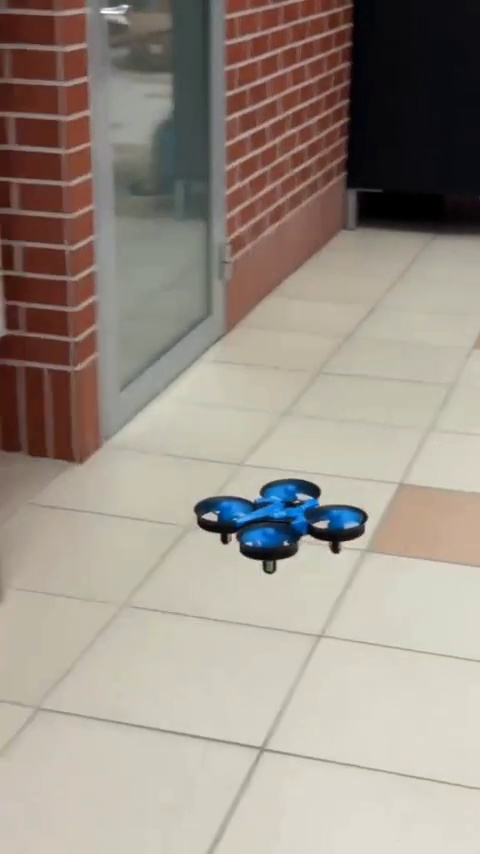drone: (198, 478, 370, 577)
